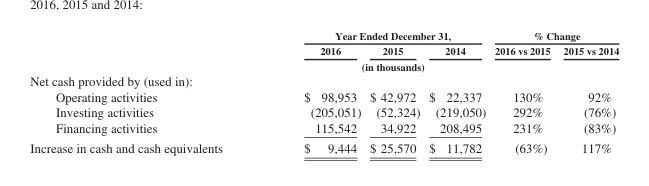table: (29, 28, 618, 155)
table column: (29, 28, 262, 155), (262, 28, 364, 155), (489, 28, 556, 155), (423, 28, 489, 155), (556, 28, 618, 155), (364, 28, 423, 155)
table column header: (29, 28, 618, 58)
table row: (29, 58, 618, 88), (29, 119, 618, 137), (29, 137, 618, 155), (29, 42, 618, 58), (29, 103, 618, 119), (29, 88, 618, 103), (29, 28, 618, 42)
table spanning cell: (262, 58, 489, 88), (262, 28, 489, 42), (489, 28, 618, 42)
